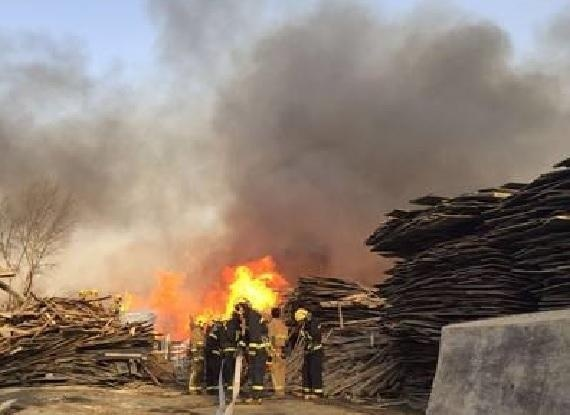fire: (134, 256, 285, 331)
